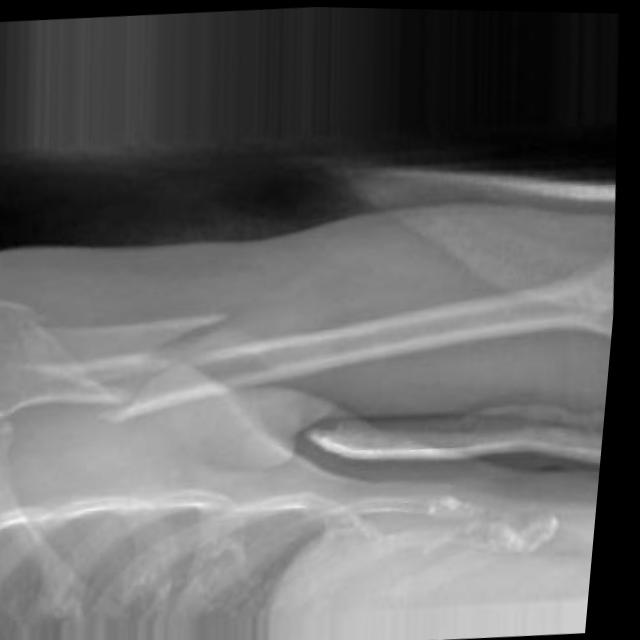fracture: (153, 281, 256, 411)
